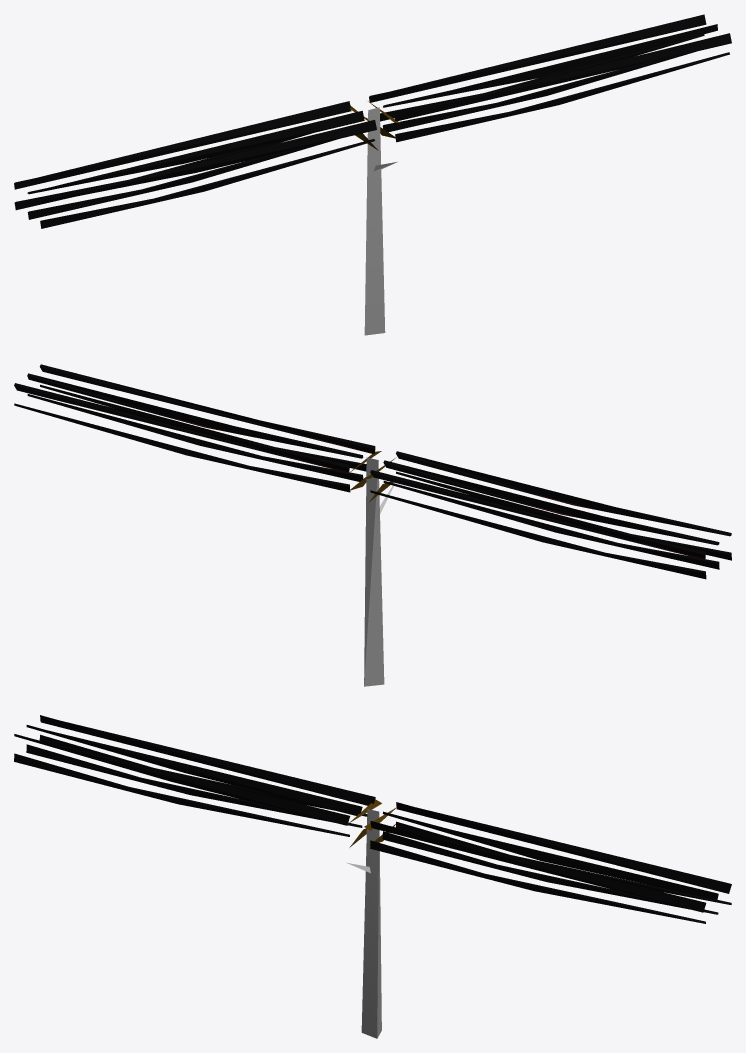
The model's file is PosteDeLuzFiosAmbosLadosLOD2.fbx.
The picture shows the model from 3 angles, top to bottom: view 1: azimuth 30°, elevation 25°; view 2: azimuth 150°, elevation 25°; view 3: azimuth 330°, elevation 25°; orthographic projection.
Parts seen in each view (by area): view 1: PosteDeLuzFiosAmbosLadosLOD2; view 2: PosteDeLuzFiosAmbosLadosLOD2; view 3: PosteDeLuzFiosAmbosLadosLOD2.
Part boxes in pixels (x1=…): PosteDeLuzFiosAmbosLadosLOD2: x1=14, y1=14, x2=731, y2=335; PosteDeLuzFiosAmbosLadosLOD2: x1=14, y1=364, x2=731, y2=686; PosteDeLuzFiosAmbosLadosLOD2: x1=14, y1=715, x2=731, y2=1038.
Bounding box in the file's own units: 2340 × 729 × 250.
